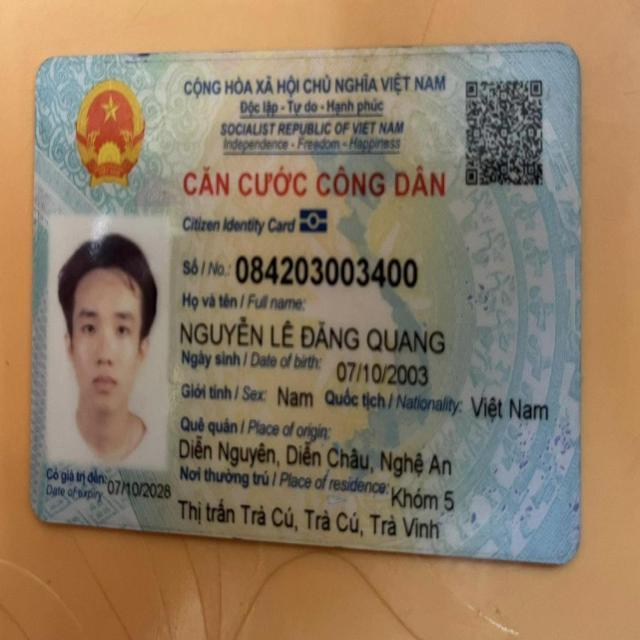current_place: (174, 498, 441, 545), (390, 484, 455, 513)
dob: (334, 356, 430, 389)
expire_date: (106, 477, 172, 501)
gender: (275, 384, 316, 412)
id: (232, 251, 420, 293)
name: (178, 314, 446, 357)
nationality: (469, 393, 550, 426)
origin_place: (178, 432, 453, 480)
